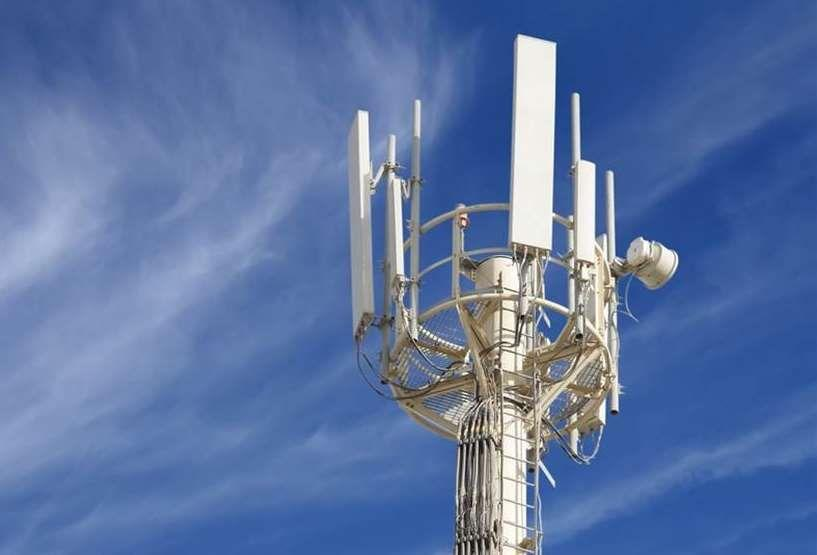GSM Antenna: (506, 27, 565, 266), (337, 109, 378, 327), (571, 147, 609, 275), (388, 172, 414, 290)
Microwave Antenna: (627, 231, 681, 299)
